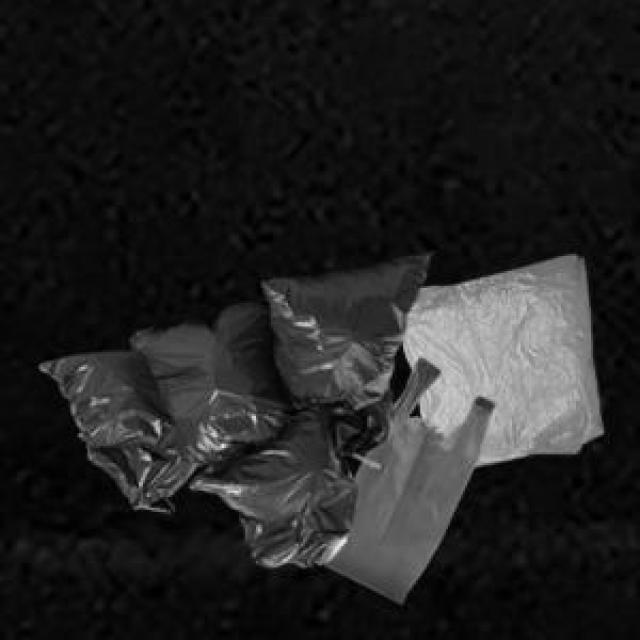miscellaneous trash: (34, 248, 428, 563)
